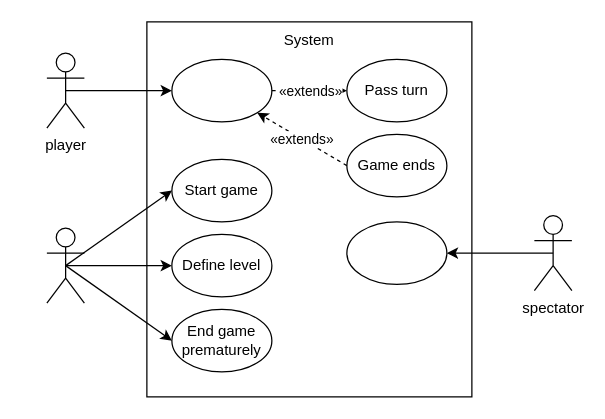
Image size: 605x419. Some labels were removed from this diagram. The shapes that lost their labels are listed below. From the top down, each one's centre as x and y in pixels, then its label:
the point at 221,90: Play turn
the point at 65,265: game master
the point at 396,252: Check rules
